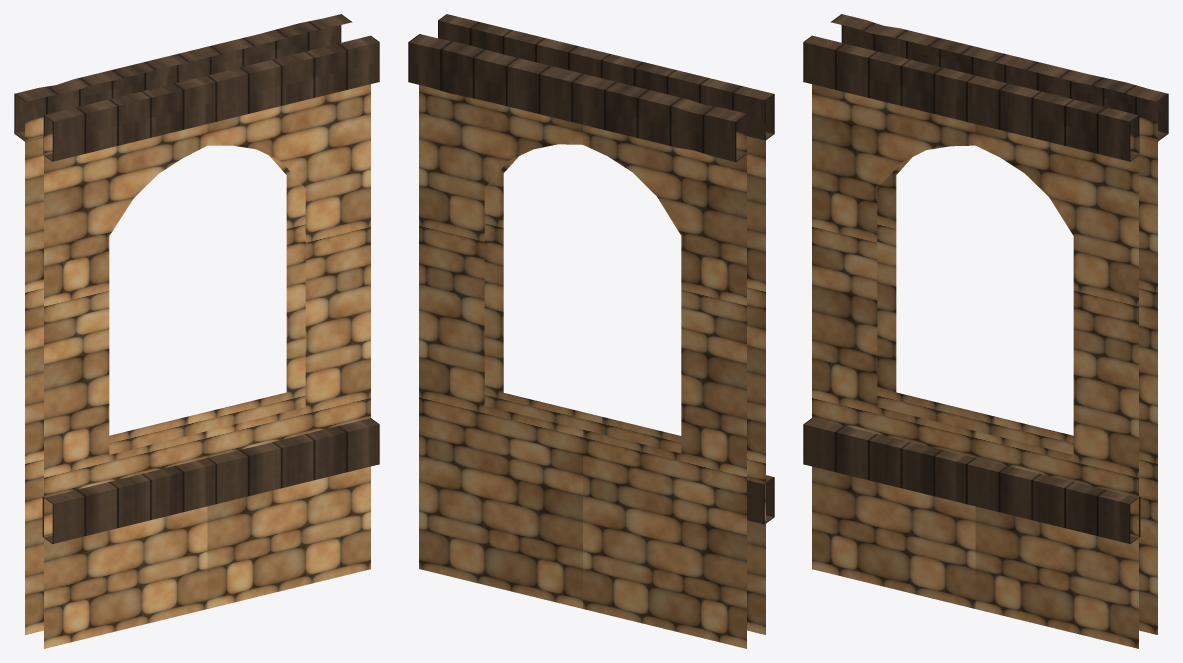
Rendered from Wall_Sandstone_Window_Wide_Round.gltf.
The picture shows the model from 3 angles, left to right: view 1: azimuth 30°, elevation 25°; view 2: azimuth 150°, elevation 25°; view 3: azimuth 330°, elevation 25°; orthographic projection.
Visible parts, largest first — view 1: Wall_Sandstone_Window_Wide_Round; view 2: Wall_Sandstone_Window_Wide_Round; view 3: Wall_Sandstone_Window_Wide_Round.
Part boxes in pixels (x1,y1,x2,y2): Wall_Sandstone_Window_Wide_Round: (14, 14, 379, 648); Wall_Sandstone_Window_Wide_Round: (408, 14, 774, 648); Wall_Sandstone_Window_Wide_Round: (803, 14, 1168, 648).
Size of the model in its own units: 2 by 3.12 by 0.406.
Materials: 2 (2 with a texture image).
